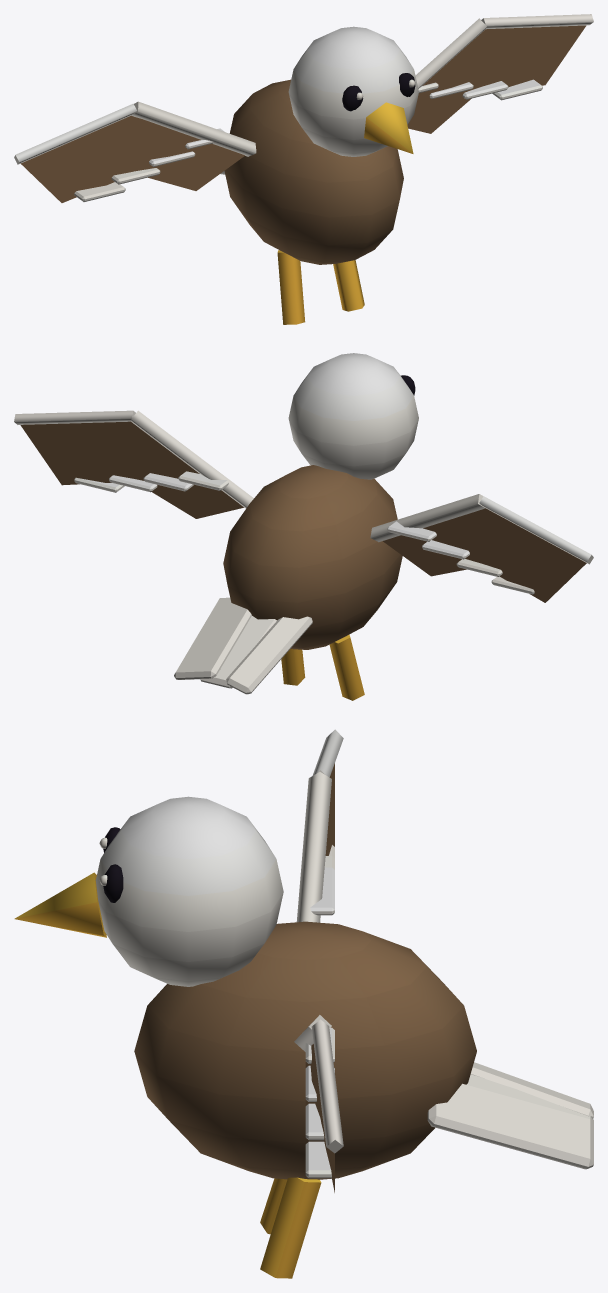
The model's file is monster_storm_eagle.glb.
3 renders of one model, top to bottom at view 1: azimuth 30°, elevation 25°; view 2: azimuth 150°, elevation 25°; view 3: azimuth 270°, elevation 25°, orthographic. The views are drawn at different scales.
Parts seen in each view (by area): view 1: body_t0_bob3_palette, wingl_t0_palette, wingr_t0_palette; view 2: body_t0_bob3_palette, wingr_t0_palette, wingl_t0_palette; view 3: body_t0_bob3_palette, wingl_t0_palette, wingr_t0_palette.
Part boxes in pixels (box(x1,y1,x2,y2)): body_t0_bob3_palette: box(220, 26, 418, 324); wingl_t0_palette: box(14, 101, 256, 202); wingr_t0_palette: box(407, 14, 593, 133); body_t0_bob3_palette: box(174, 353, 418, 700); wingr_t0_palette: box(14, 410, 253, 518); wingl_t0_palette: box(370, 494, 593, 602); body_t0_bob3_palette: box(14, 796, 593, 1278); wingl_t0_palette: box(296, 729, 343, 922); wingr_t0_palette: box(294, 1015, 343, 1192).
Bounding box in the file's own units: 0.6627 × 0.3377 × 0.3958.
